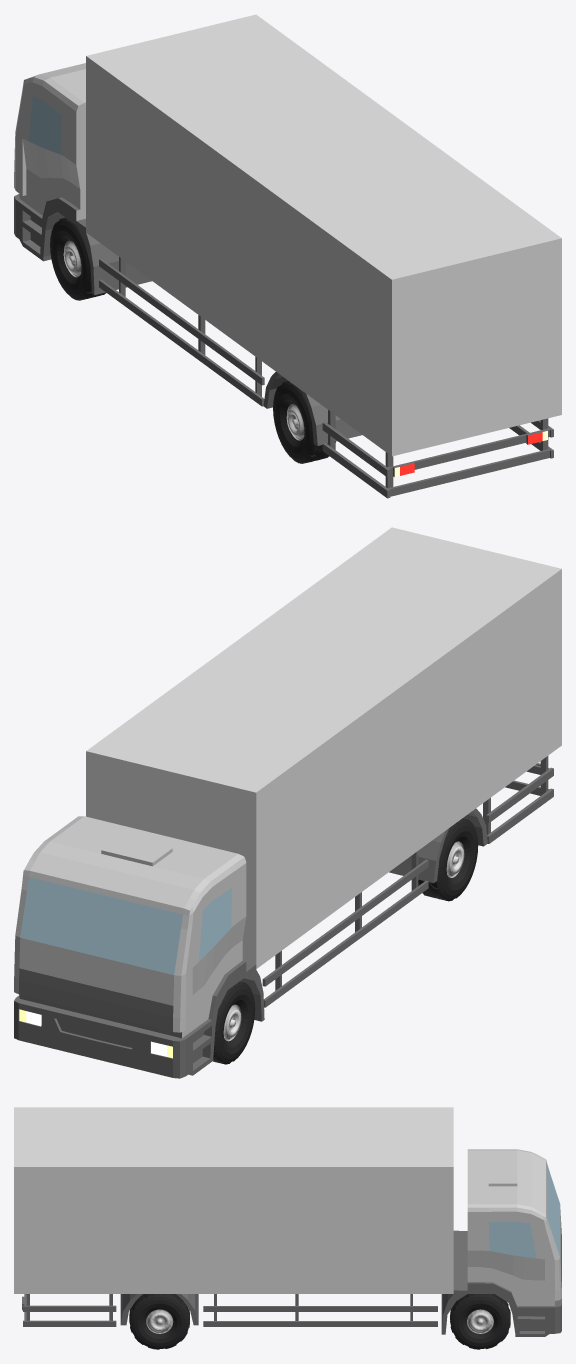
The model's file is car_lkw.fbx.
The picture shows the model from 3 angles, top to bottom: view 1: azimuth 30°, elevation 25°; view 2: azimuth 150°, elevation 25°; view 3: azimuth 270°, elevation 25°; orthographic projection. The views are drawn at different scales.
Visible parts, largest first — view 1: Cube, Reifen, Reifen.001; view 2: Cube, Reifen, Reifen.001; view 3: Cube, Reifen, Reifen.001, Felge, Felge.001.
Boxes of the visible parts, box(x1,y1,x2,y2) form: Cube: box(14, 14, 561, 498); Reifen: box(273, 381, 335, 463); Reifen.001: box(50, 217, 106, 300); Cube: box(14, 527, 561, 1078); Reifen: box(418, 818, 478, 901); Reifen.001: box(213, 981, 255, 1064); Cube: box(14, 1107, 561, 1336); Reifen: box(129, 1294, 189, 1349); Reifen.001: box(450, 1294, 510, 1349); Felge: box(146, 1309, 173, 1333); Felge.001: box(467, 1309, 493, 1333).
Bounding box in the file's own units: 182 × 705 × 262.
